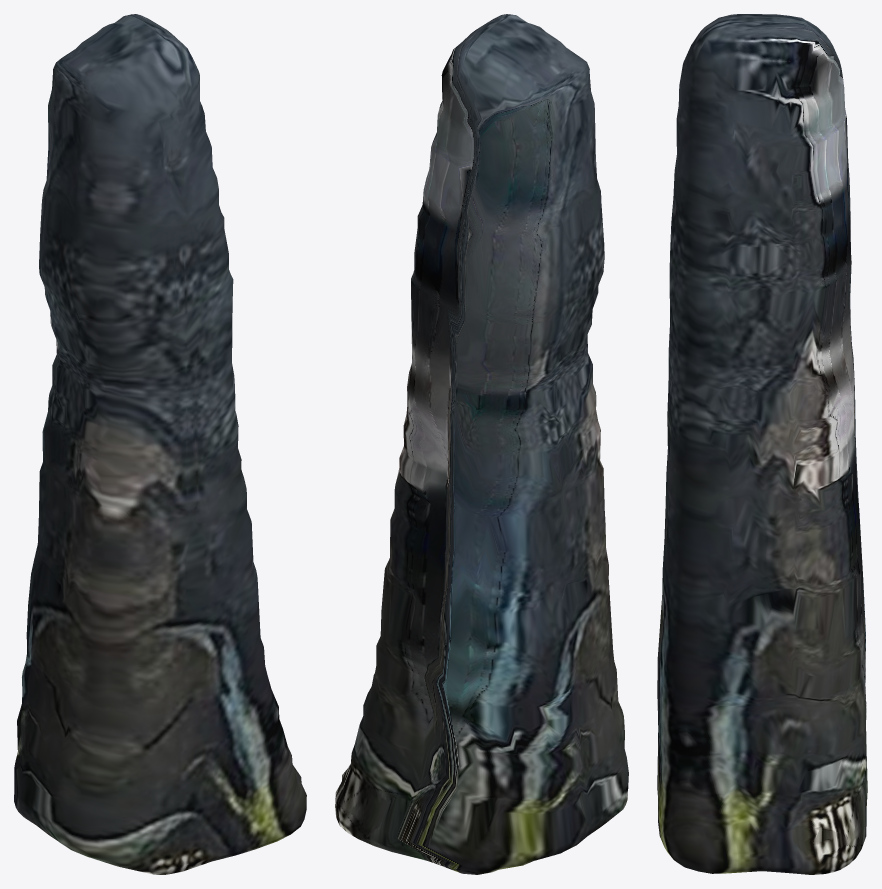
File: monolith.glb
3 views of the same model, side by side, from view 1: azimuth 30°, elevation 25°; view 2: azimuth 150°, elevation 25°; view 3: azimuth 270°, elevation 25° (orthographic).
Visible parts, largest first — view 1: monolith; view 2: monolith; view 3: monolith.
Part boxes in pixels (x1,y1,x2,y2): monolith: (14, 14, 306, 874); monolith: (335, 14, 628, 874); monolith: (657, 14, 867, 874).
Bounding box in the file's own units: 0.3199 × 0.997 × 0.236.
Materials: 1 (1 with a texture image).
